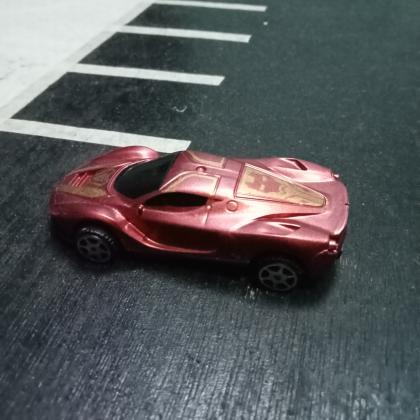Car: (45, 142, 352, 294)
